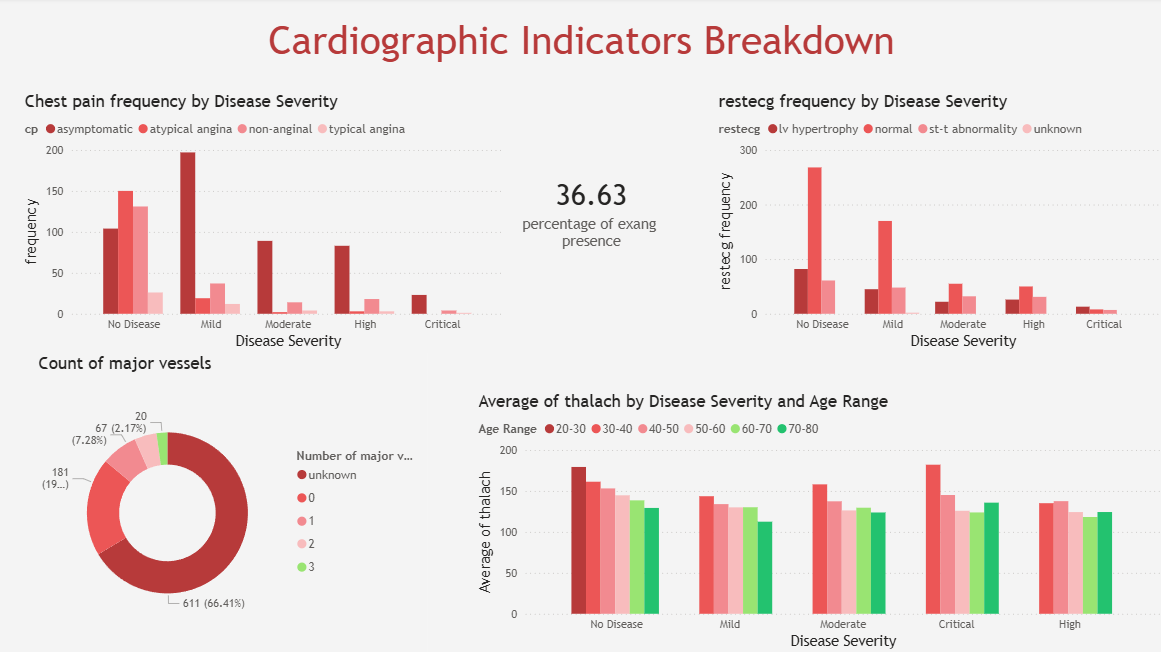

What the dashboard file says about the page in this screenshot:
{"tool":"powerbi","page":{"name":"Cardiographic Indicators Breakdown","canvas":[1280,720],"ordinal":2},"visuals":[{"type":"clusteredColumnChart","title":"restecg frequency by Disease Severity","fields":{"Category":["Sheet1.num"],"Series":["Sheet1.restecg"],"Y":["CountNonNull(Sheet1.restecg)"]},"box":[784.9,102.9,495.4,288.2],"z":1},{"type":"clusteredColumnChart","fields":{"Category":["Sheet1.num"],"Y":["Avg(Sheet1.thalach)"],"Series":["Sheet1.Age Range"]},"box":[521.4,432.2,758.8,288.2],"z":2},{"type":"donutChart","title":"Count of major vessels","fields":{"Category":["Sheet1.ca"],"Y":["CountNonNull(Sheet1.ca)"]},"box":[38.4,391.1,432.2,329.3],"z":3},{"type":"card","fields":{"Values":["Sheet1.percentage of exang presence"]},"box":[546.1,138.6,208.6,174.3],"z":4},{"type":"textbox","box":[273.1,17.8,732.8,71.4],"z":5},{"type":"clusteredColumnChart","title":"Chest pain frequency by Disease Severity","fields":{"Category":["Sheet1.num"],"Y":["CountNonNull(Sheet1.num)"],"Series":["Sheet1.cp"]},"box":[23.3,102.9,536.5,288.2],"z":6}]}

Visuals, with their boxes in screenshot pixels (x1, y1, x2, y2), scaled from the page's 1280x720 canvas onto the 1161x652 screenshot:
"restecg frequency by Disease Severity" clusteredColumnChart: {"left": 712, "top": 93, "right": 1160, "bottom": 354}
clusteredColumnChart - Sheet1.num x Avg(Sheet1.thalach): {"left": 473, "top": 391, "right": 1160, "bottom": 651}
"Count of major vessels" donutChart: {"left": 35, "top": 354, "right": 427, "bottom": 651}
card - Sheet1.percentage of exang presence: {"left": 495, "top": 126, "right": 685, "bottom": 283}
textbox: {"left": 248, "top": 16, "right": 912, "bottom": 81}
"Chest pain frequency by Disease Severity" clusteredColumnChart: {"left": 21, "top": 93, "right": 508, "bottom": 354}
